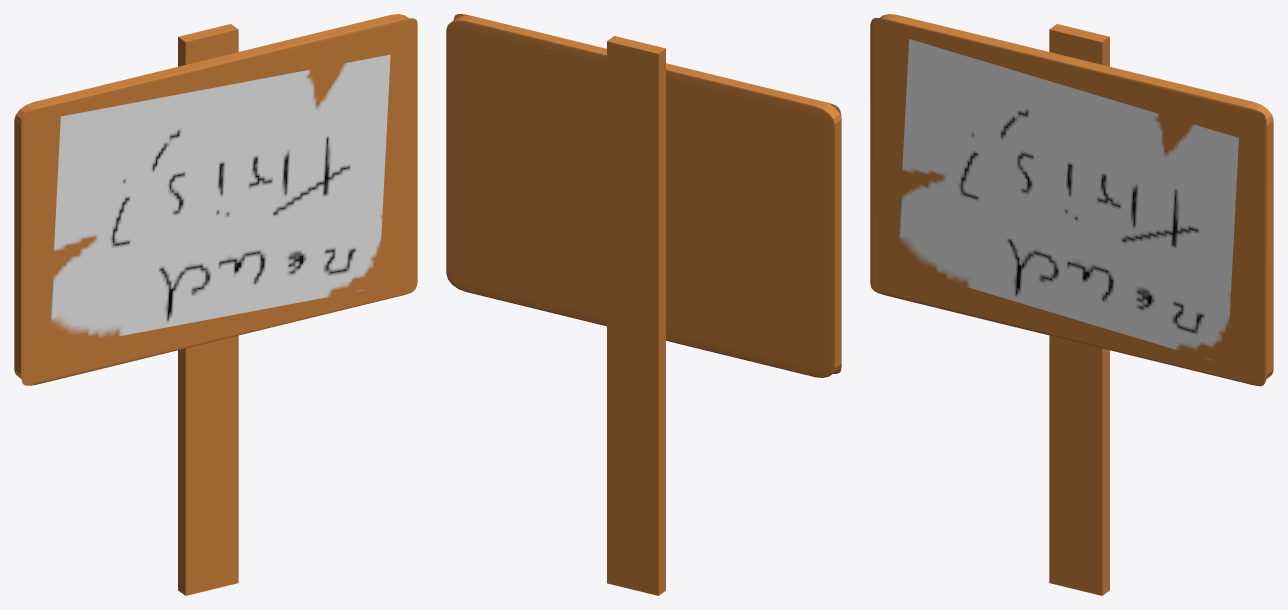
The model's file is sign_wooden.gltf.
The picture shows the model from 3 angles, left to right: view 1: azimuth 30°, elevation 25°; view 2: azimuth 150°, elevation 25°; view 3: azimuth 330°, elevation 25°; orthographic projection. The views are drawn at different scales.
Visible parts, largest first — view 1: Cube.001, Cube; view 2: Cube.001, Cube; view 3: Cube.001, Cube.
Boxes of the visible parts, x1,y1,x2,y2 form: Cube.001: (14, 14, 417, 385); Cube: (178, 24, 238, 595); Cube.001: (446, 14, 841, 377); Cube: (607, 36, 665, 595); Cube.001: (870, 14, 1273, 386); Cube: (1049, 24, 1109, 595).
Bounding box in the file's own units: 1.5 × 2 × 0.1.
3 materials, 1 textured.
